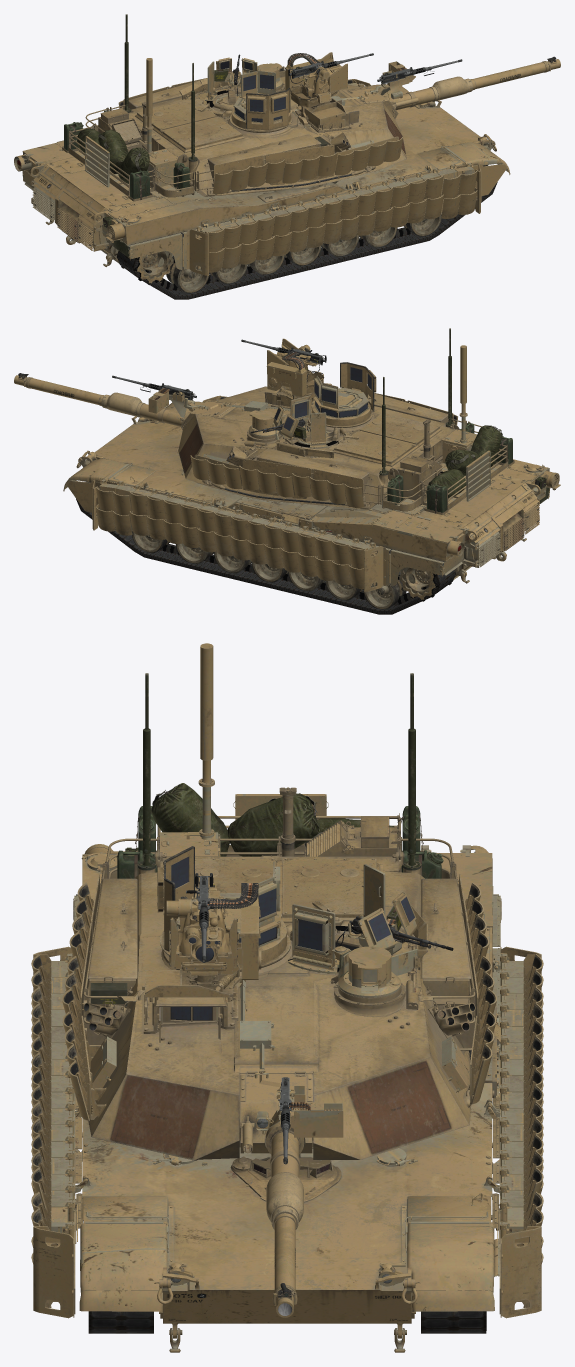
3 views of the same model, one above another, from view 1: azimuth 30°, elevation 25°; view 2: azimuth 150°, elevation 25°; view 3: azimuth 270°, elevation 25° (orthographic). The views are drawn at different scales.
Visible parts, largest first — view 1: Body, head.001, body stuff.004, head stuff 3, armor, head stuff.001, body stuff.001, Wheels cover, body stuff 2, Big Barell, Middle Wheel Armor 3, MIddle Wheel Armor (+23 smaller); view 2: Body, head.001, body stuff.004, body stuff.001, armor, random stuff on head, Wheels cover, body stuff 2, head stuff.001, Big Barell, MIddle Wheel Armor 2, Back Wheel Armor (+24 smaller); view 3: head.001, Body, armor, body stuff.004, body stuff.001, Big Barell, random stuff on head, head stuff.002, head stuff 3, head stuff.001, bags, head.002 (+19 smaller).
Part boxes in pixels (x1,y1,x2,y2): Body: (23,100,496,266); head.001: (62,74,406,201); body stuff.004: (114,78,507,275); head stuff 3: (105,58,403,242); armor: (85,57,510,240); head stuff.001: (135,78,350,152); body stuff.001: (70,78,321,199); Wheels cover: (117,165,497,299); body stuff 2: (31,101,487,251); Big Barell: (341,56,560,119); Middle Wheel Armor 3: (340,183,410,239); MIddle Wheel Armor: (239,207,308,264); Body: (76,416,549,583); head.001: (178,383,514,514); body stuff.004: (66,395,439,592); body stuff.001: (251,388,506,513); armor: (63,375,555,501); random stuff on head: (148,388,545,545); Wheels cover: (76,481,455,614); body stuff 2: (86,417,539,567); head stuff.001: (249,362,441,466); Big Barell: (14,373,236,429); MIddle Wheel Armor 2: (197,507,266,564); Back Wheel Armor: (297,532,364,589); head.001: (83,787,475,1160); Body: (75,852,500,1352); armor: (79,783,494,1312); body stuff.004: (33,823,541,1318); body stuff.001: (87,816,471,1033); Big Barell: (239,1066,312,1317); random stuff on head: (81,845,524,1186); head stuff.002: (143,673,415,917); head stuff 3: (62,643,496,1120); head stuff.001: (142,846,432,1029); bags: (151,783,394,856); head.002: (161,864,418,1072).
Bounding box in the file's own units: 982 × 418 × 440.
